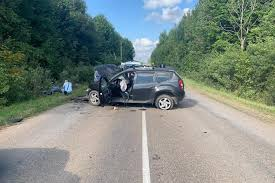car: (85, 56, 198, 116)
